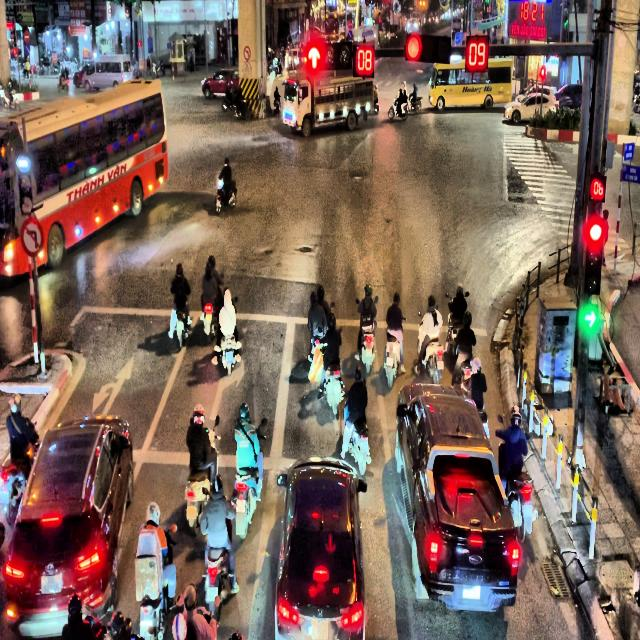lisence_plate: (303, 612, 337, 639), (36, 574, 68, 592), (310, 616, 330, 639), (463, 586, 480, 596)
